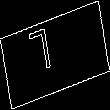L_S: (41, 26, 69, 84)
